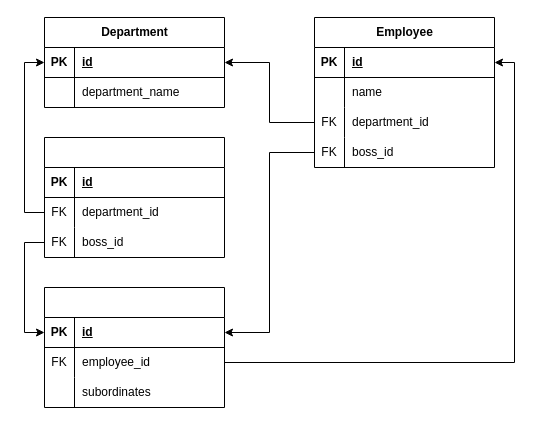
The diagram is 540 pixels wide and 425 high, and some of its shapes have lost their labels. Here are the shapes that lost their labels. From the top down, the box of each, then its label:
(44, 136, 224, 258): DepartmentBoss
(44, 286, 224, 408): Boss
